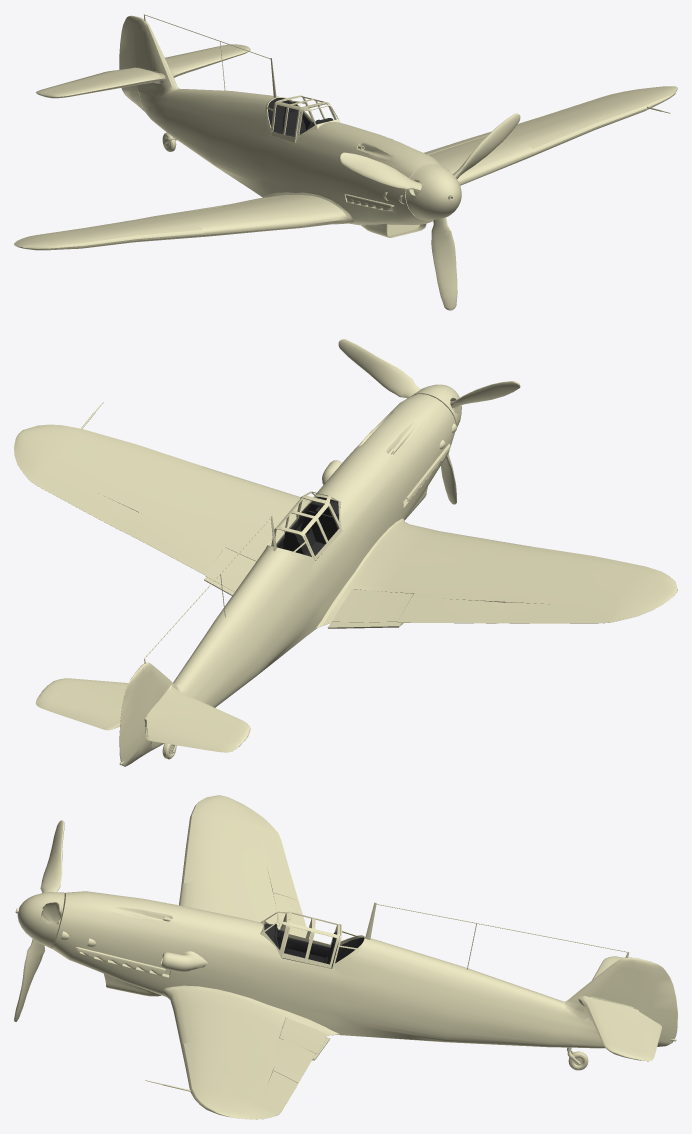
The picture shows the model from 3 angles, top to bottom: view 1: azimuth 30°, elevation 25°; view 2: azimuth 150°, elevation 25°; view 3: azimuth 270°, elevation 25°; orthographic projection.
Visible parts, largest first — view 1: 1.002; view 2: 1.002; view 3: 1.002.
Boxes of the visible parts, x1,y1,x2,y2 form: 1.002: (14,14,677,310); 1.002: (14,339,677,766); 1.002: (14,795,677,1119).
Bounding box in the file's own units: 985 × 299 × 865.
